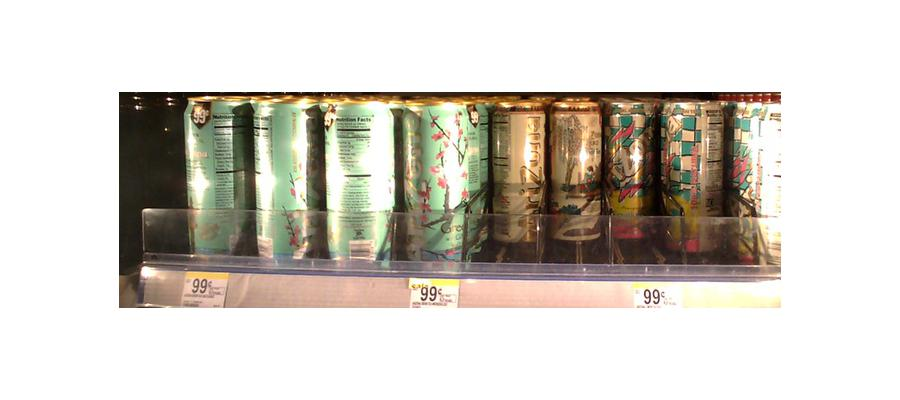bottle: (320, 98, 398, 269), (404, 105, 482, 267), (251, 98, 318, 260), (186, 96, 251, 256), (662, 98, 725, 259), (547, 100, 604, 259), (732, 89, 781, 267), (607, 97, 657, 259), (492, 108, 543, 256)
